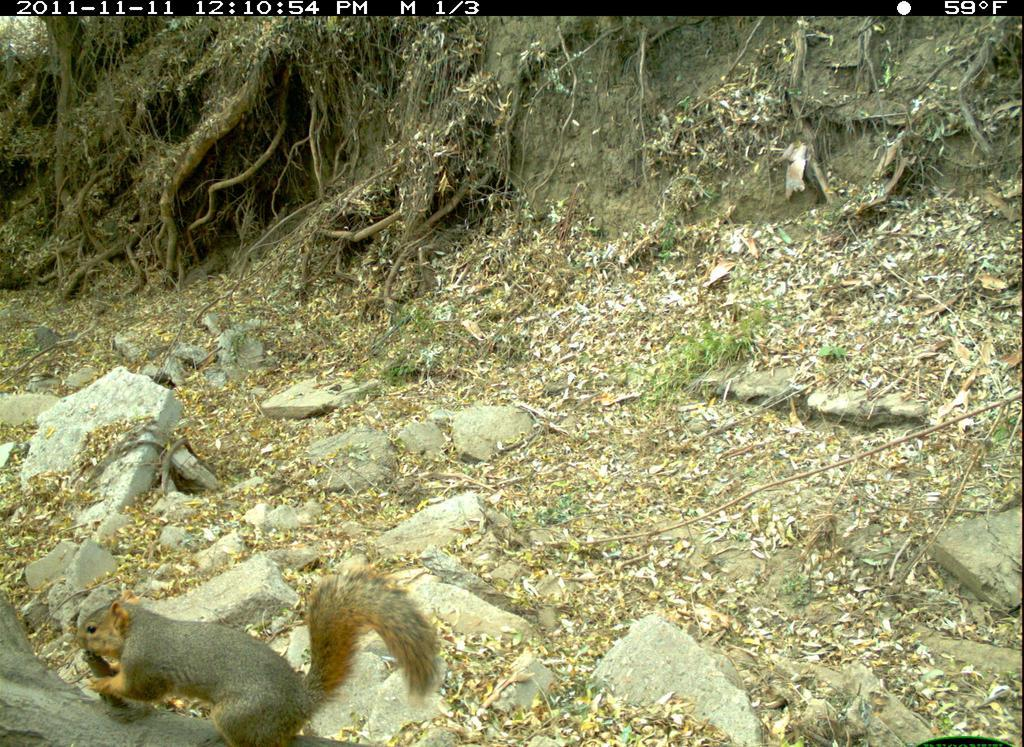squirrel: (72, 562, 456, 747)
